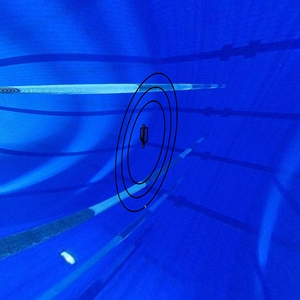circle: (111, 69, 188, 219)
submarine: (135, 121, 154, 152)
